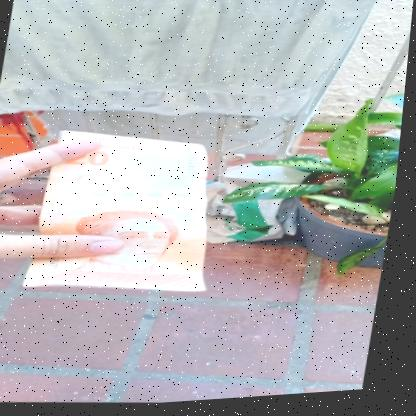vef_front: (24, 121, 235, 305)
